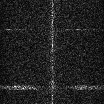wifi: (1, 85, 104, 89), (1, 28, 104, 30)
